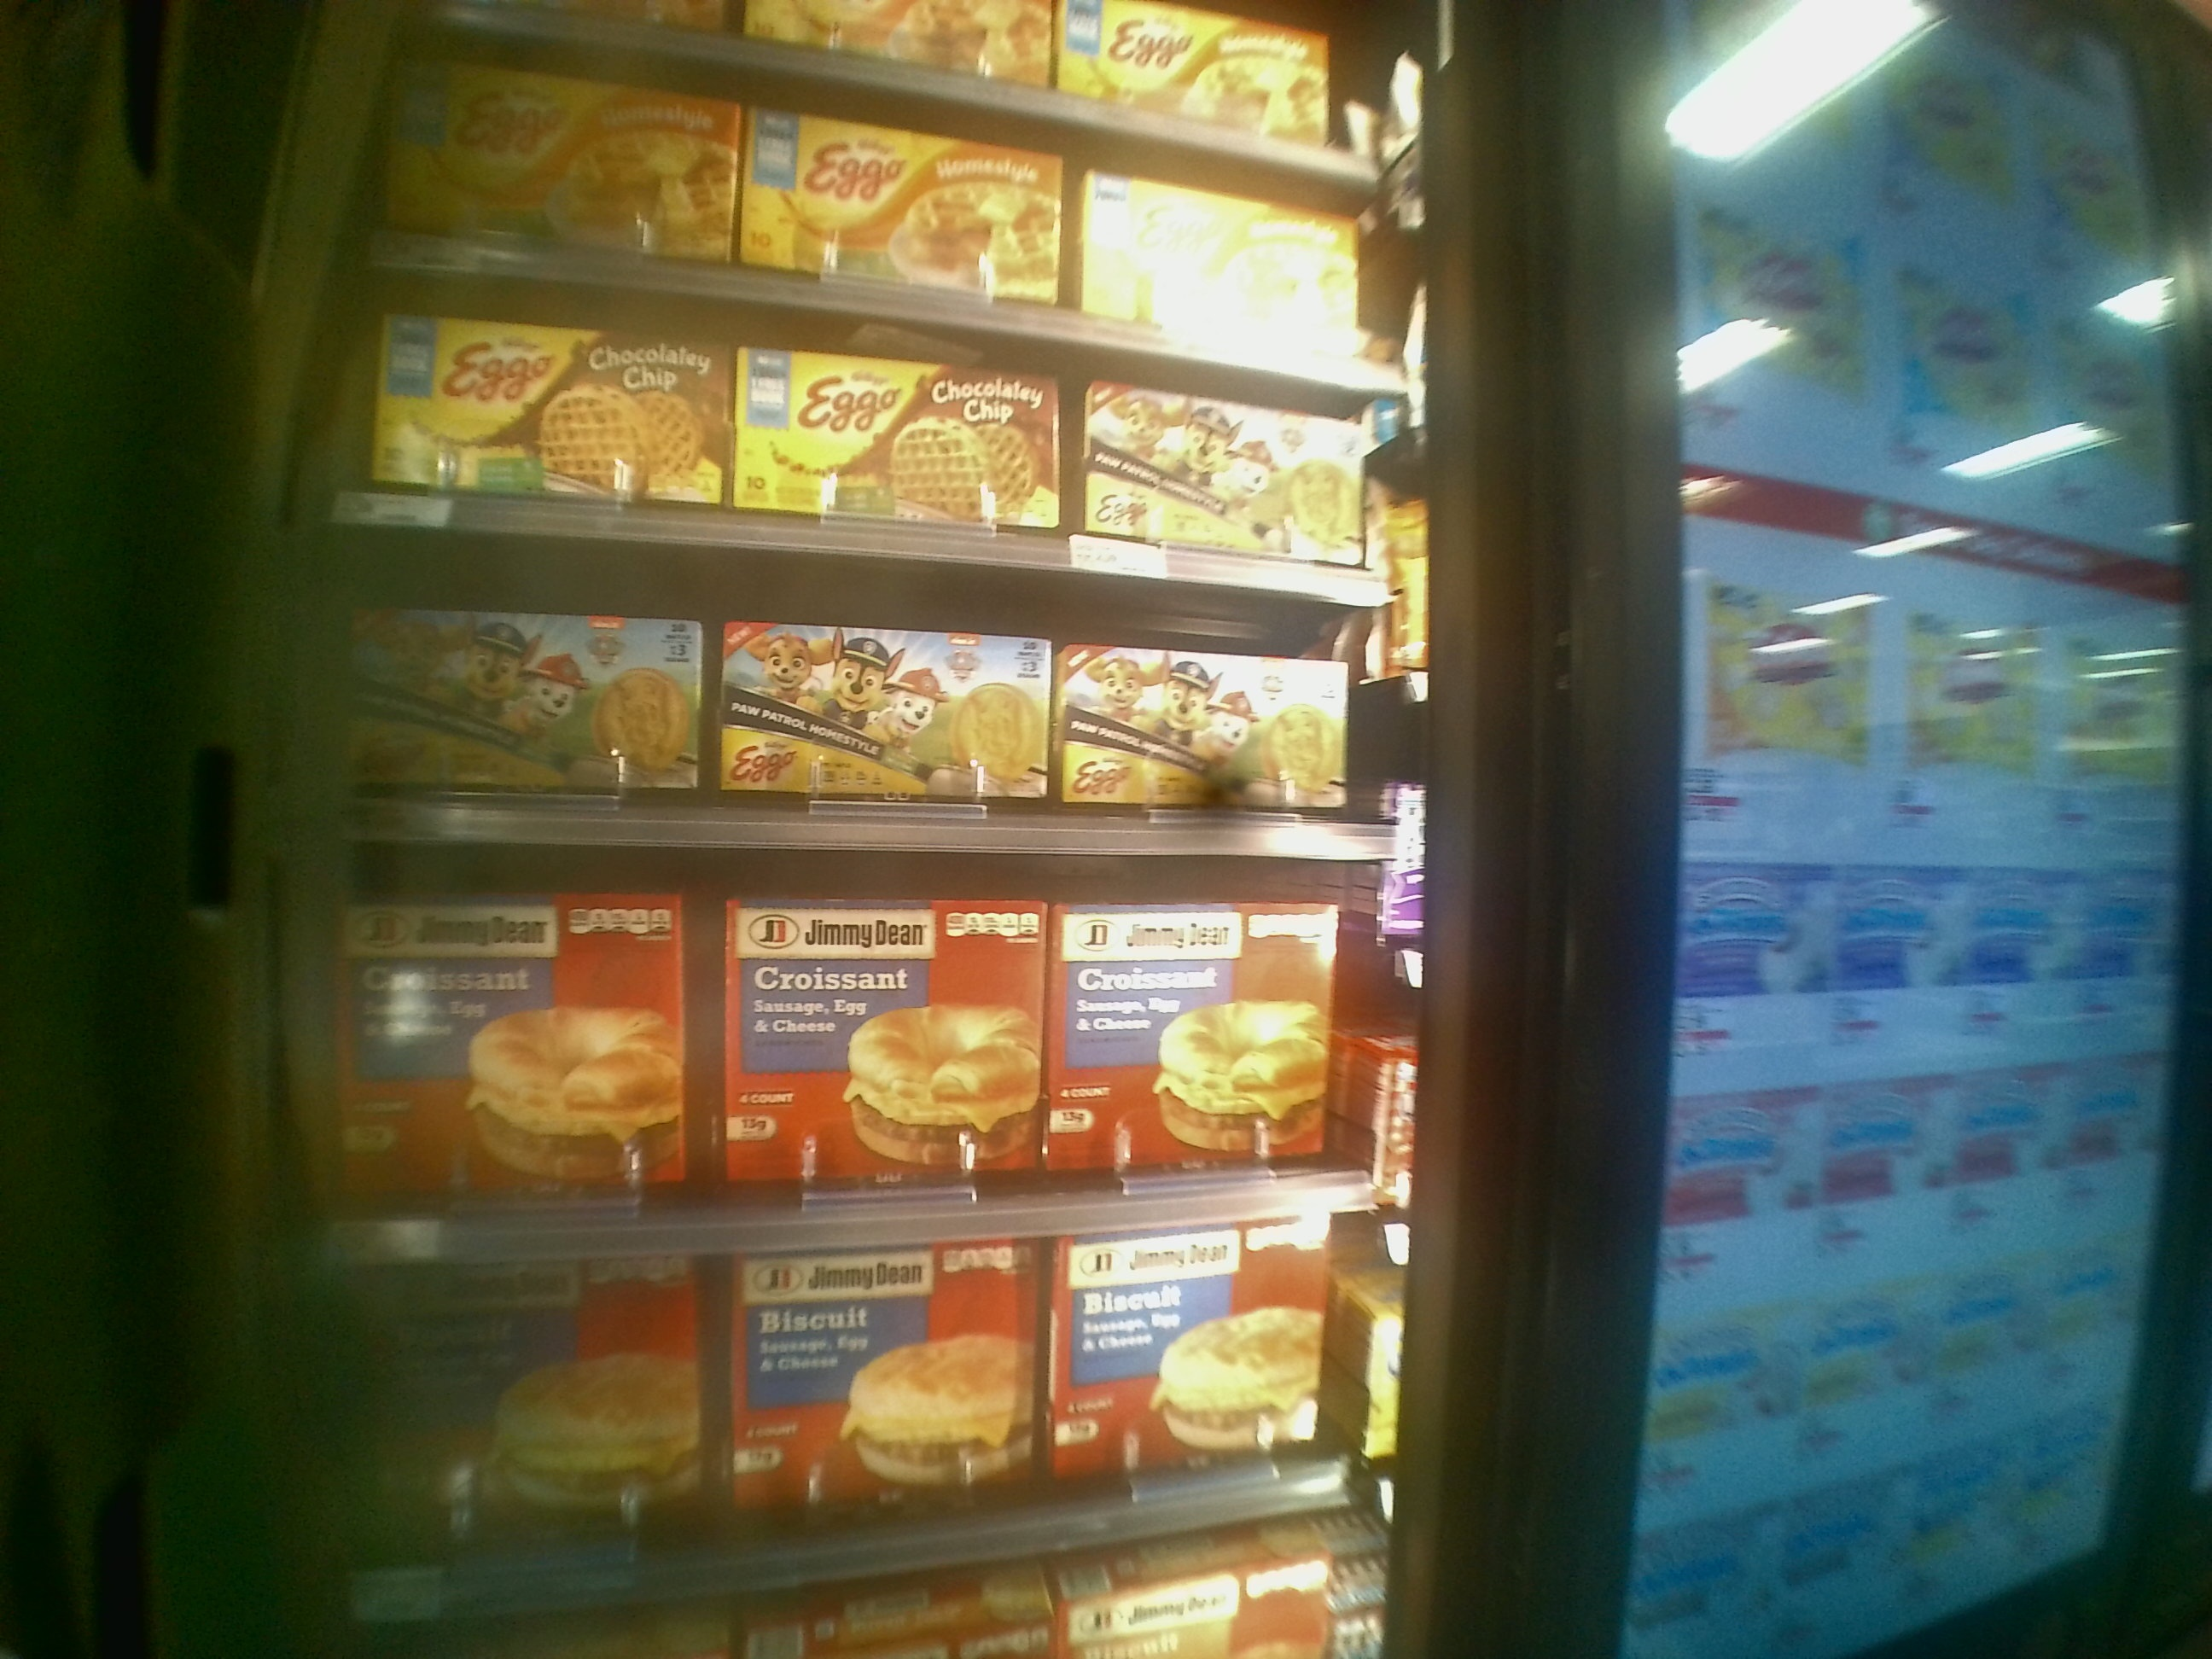shelf: (315, 836, 1418, 1263)
